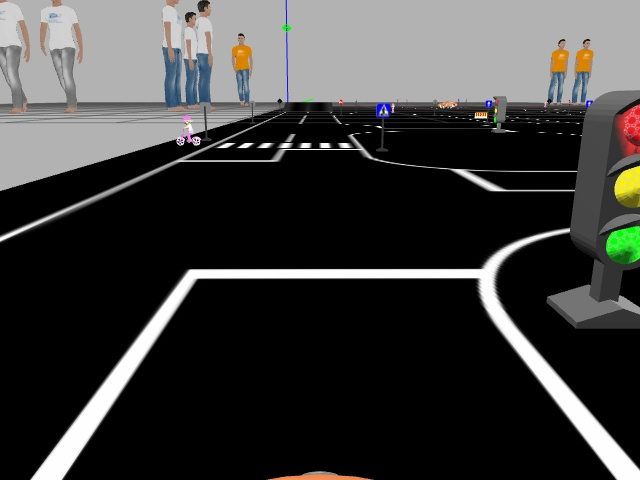Crosswalk: (377, 104, 389, 118)
Pedestrian: (176, 115, 199, 145)
TrafficLight: (567, 89, 639, 262)
